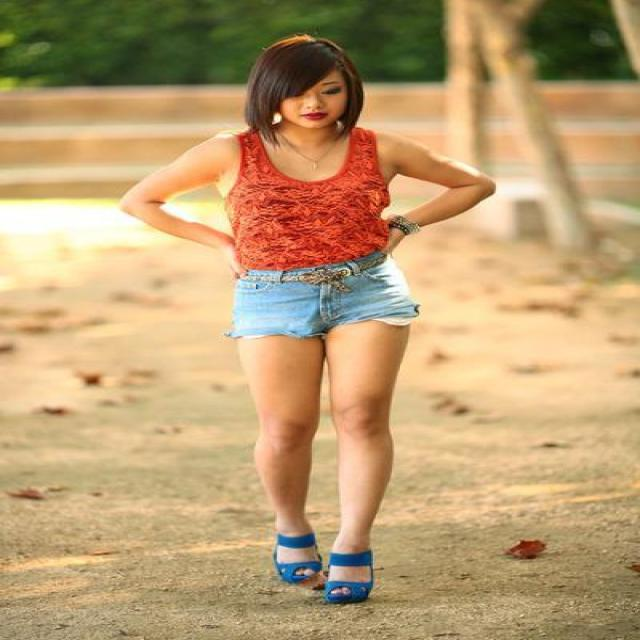shirt: (226, 127, 397, 273)
shoe: (274, 533, 371, 605)
shorts: (229, 250, 419, 344)
